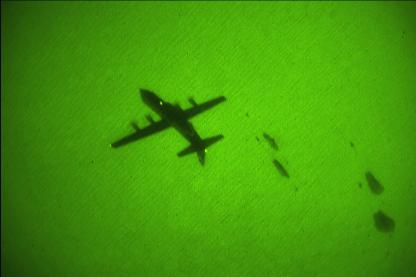Be200: (108, 88, 226, 168)
